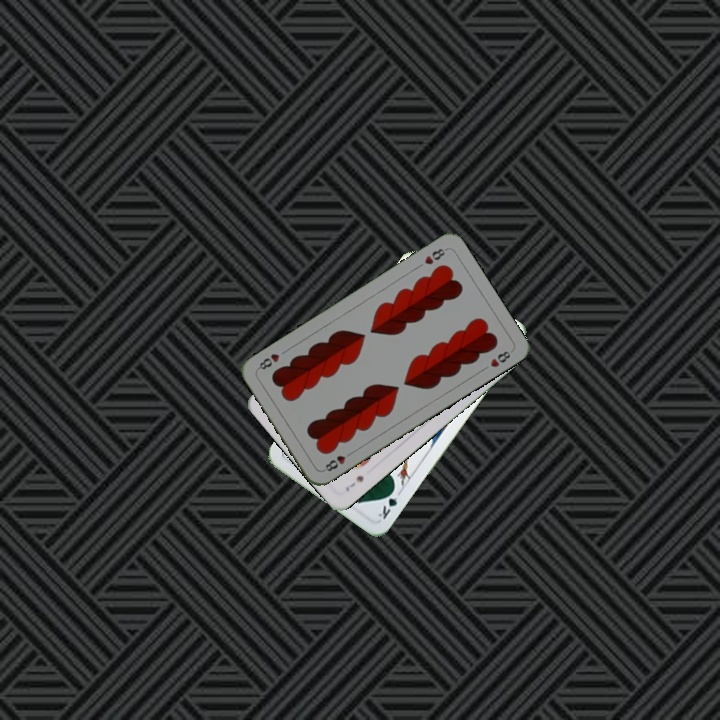GK: (374, 484, 404, 522)
H8: (319, 447, 355, 474), (420, 244, 450, 267)
S7: (341, 471, 366, 494)
